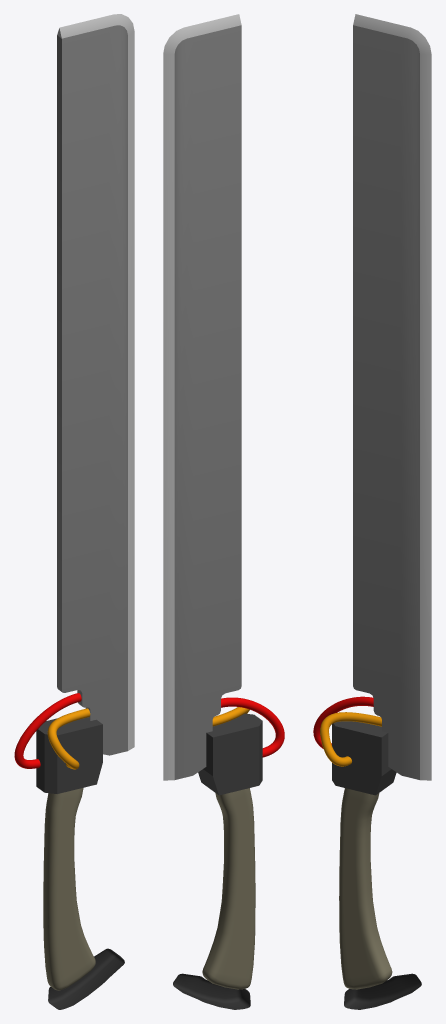
Rendered from swe.fbx.
3 renders of one model, left to right at view 1: azimuth 30°, elevation 25°; view 2: azimuth 210°, elevation 25°; view 3: azimuth 330°, elevation 25°, orthographic.
Parts seen in each view (by area): view 1: Plane.003, Plane.001, Cube, Plane.002, cable.001, cable; view 2: Plane.003, Plane.001, Cube, Plane.002, cable.001, cable; view 3: Plane.003, Plane.001, Cube, Plane.002, cable, cable.001.
Boxes of the visible parts, box(x1,y1,x2,y2) form: Plane.003: box(57, 14, 134, 755); Plane.001: box(43, 788, 95, 990); Cube: box(36, 718, 102, 793); Plane.002: box(48, 948, 124, 1009); cable.001: box(14, 693, 81, 768); cable: box(47, 708, 90, 769); Plane.003: box(163, 14, 241, 780); Plane.001: box(202, 788, 255, 989); Cube: box(198, 713, 262, 795); Plane.002: box(173, 973, 250, 1009); cable.001: box(221, 697, 284, 757); cable: box(212, 707, 249, 726); Plane.003: box(353, 14, 431, 780); Plane.001: box(339, 788, 392, 989); Cube: box(332, 721, 396, 795); Plane.002: box(344, 973, 421, 1009); cable: box(320, 712, 381, 766); cable.001: box(313, 696, 373, 748).
Size of the model in its own units: 101 by 799 by 42.19.
